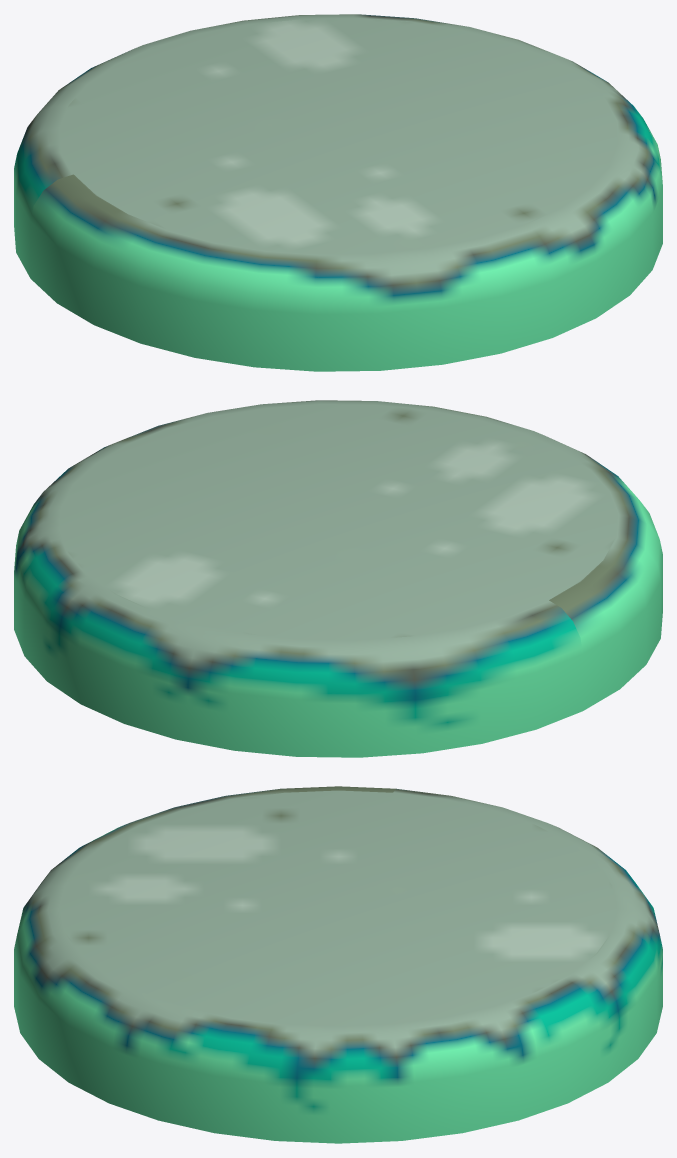
Rendered from BirbBase.fbx.
3 renders of one model, top to bottom at view 1: azimuth 30°, elevation 25°; view 2: azimuth 150°, elevation 25°; view 3: azimuth 270°, elevation 25°, orthographic.
Parts seen in each view (by area): view 1: BirbBase; view 2: BirbBase; view 3: BirbBase.
Part boxes in pixels (x1=…): BirbBase: x1=14, y1=14, x2=662, y2=371; BirbBase: x1=14, y1=400, x2=662, y2=757; BirbBase: x1=14, y1=786, x2=662, y2=1143.
Size of the model in its own units: 90 by 15 by 90.
1 material, 1 textured.
